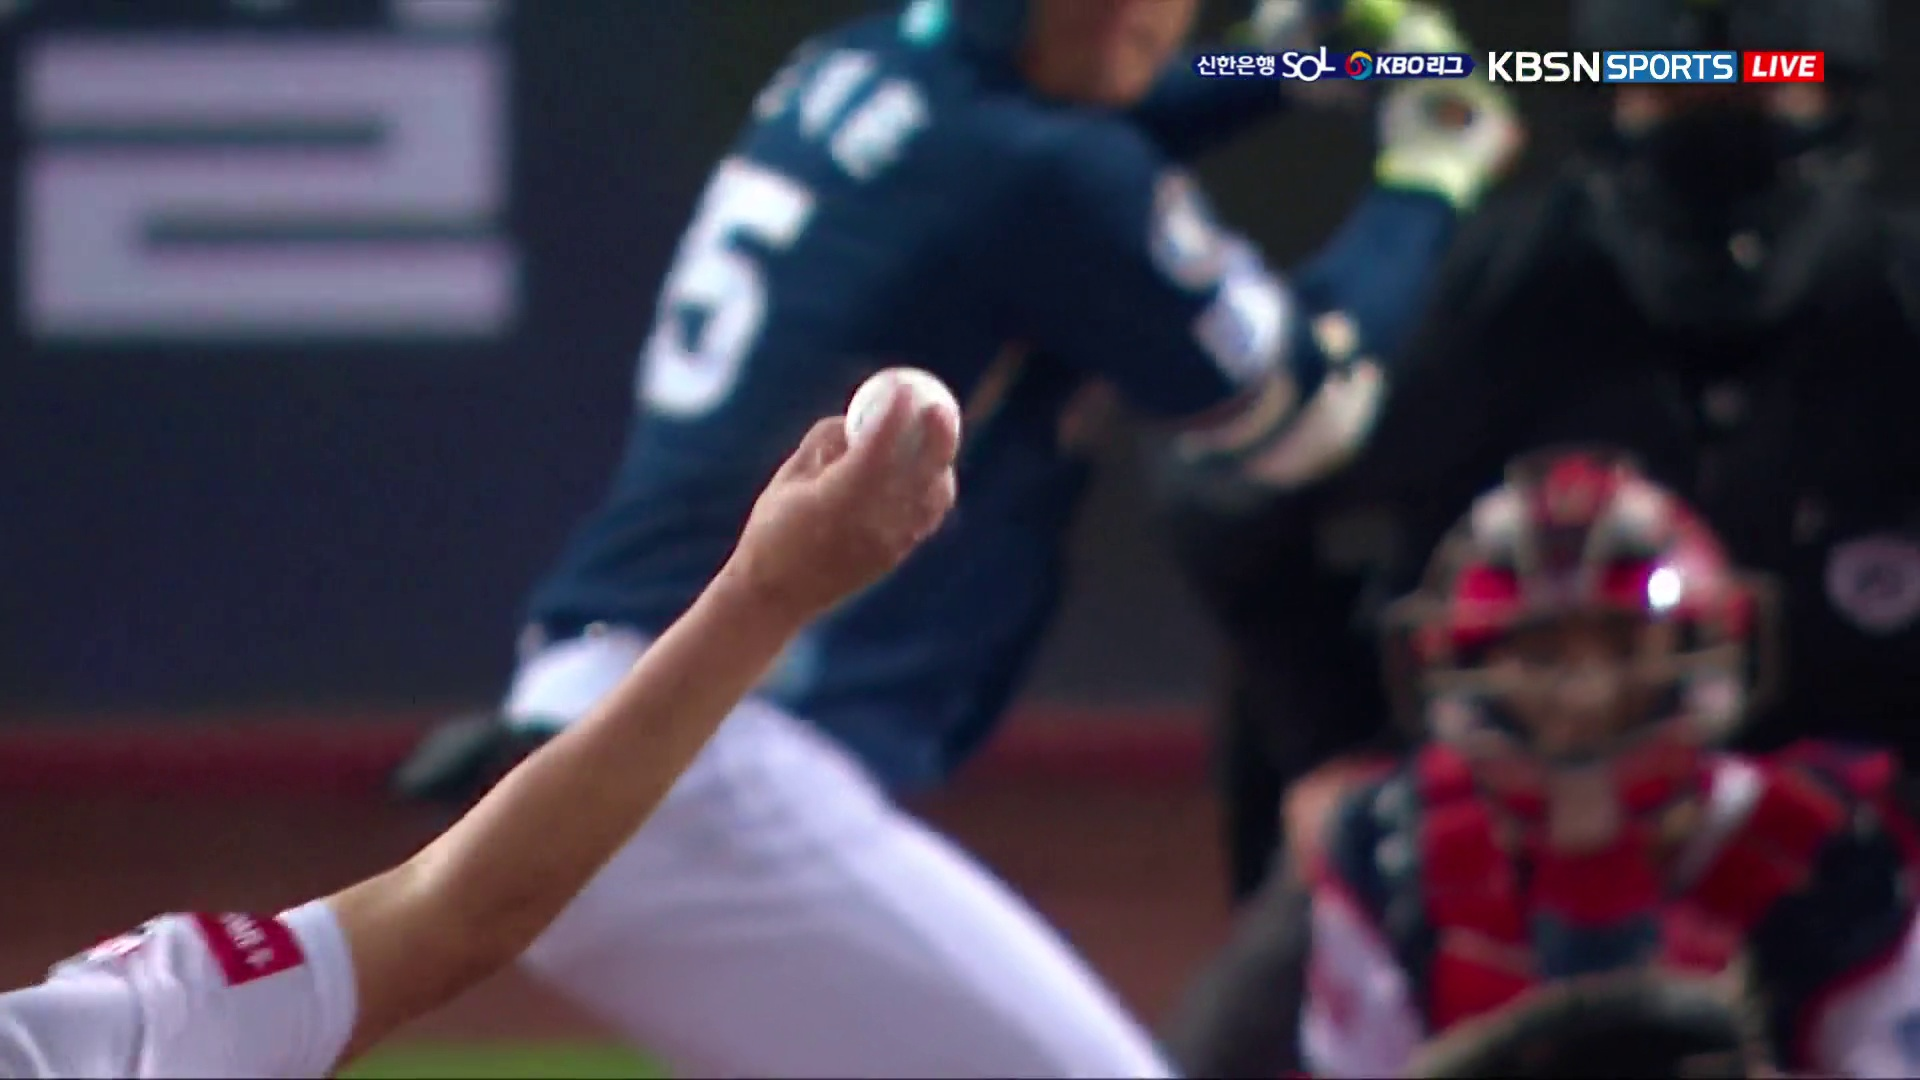zoomin_hand: (404, 357, 978, 986)
